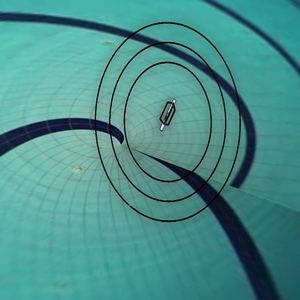circle: (86, 18, 252, 228)
submarine: (152, 93, 189, 142)
